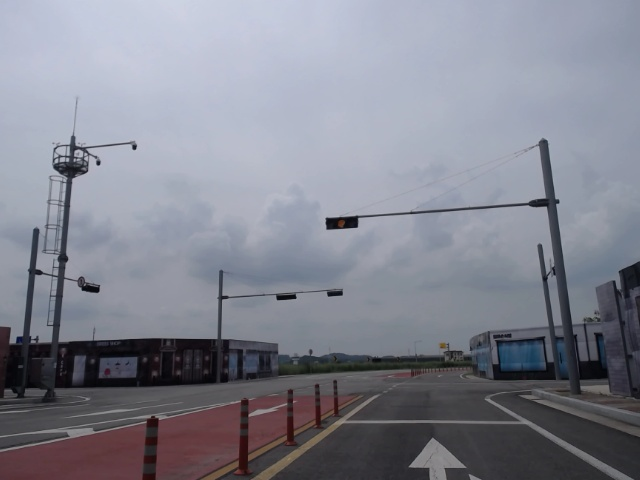orange_3: (326, 216, 358, 230)
